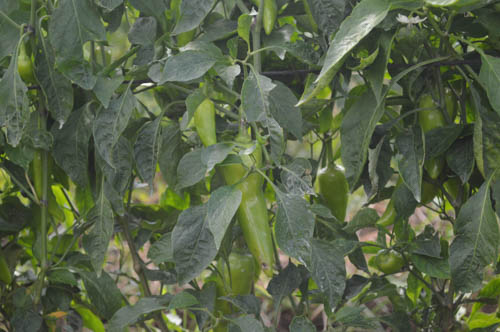ChiliPepper: (227, 143, 276, 271), (415, 99, 441, 171), (309, 169, 347, 217), (376, 175, 410, 226), (215, 256, 254, 294), (193, 101, 218, 144)
